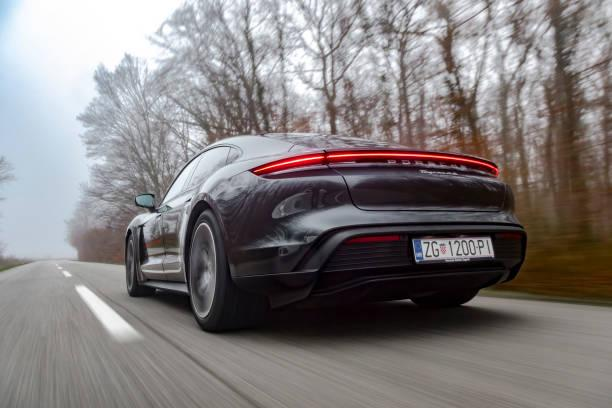porsche: (384, 150, 476, 174)
